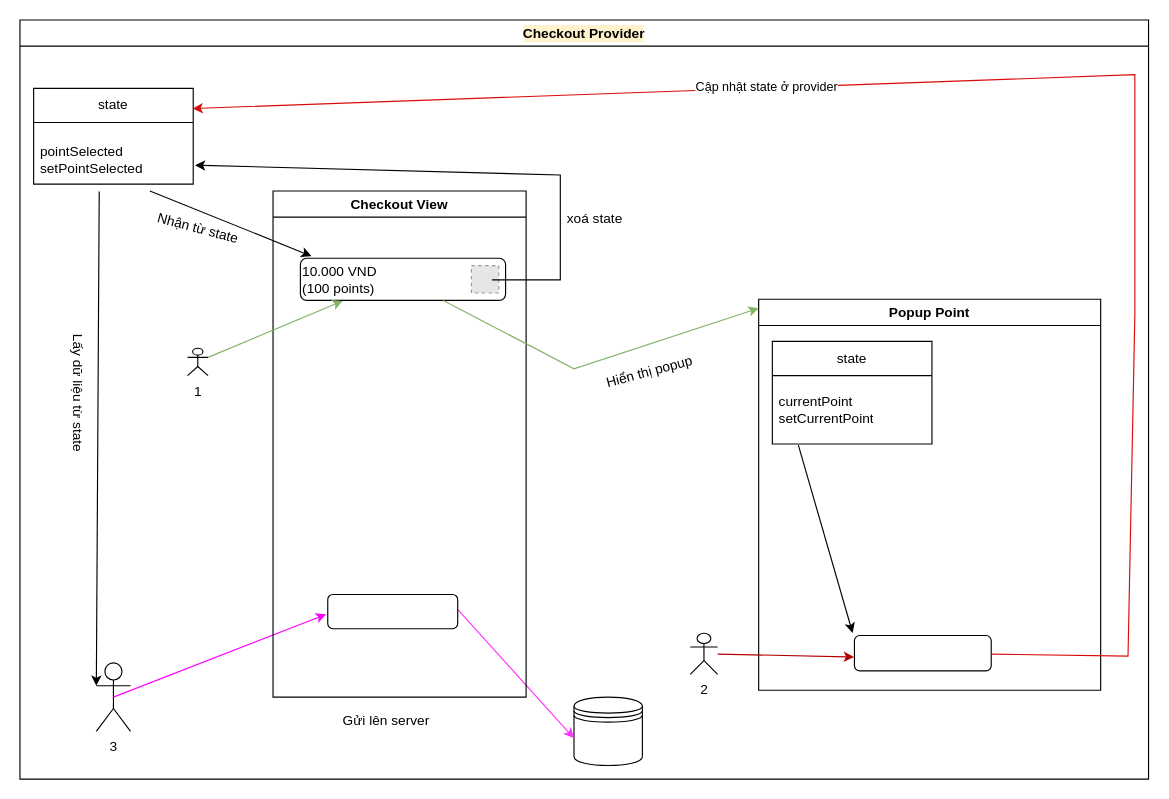
Image size: 1169x799. Some labels were removed from this diagram. Grey dashed boxes stand in for pictures. Here are the shapes that lost their labels. From the top down, the centre of each, then its label:
the point at 392,611: Order
the point at 922,652: Confirm
the point at 607,731: server
